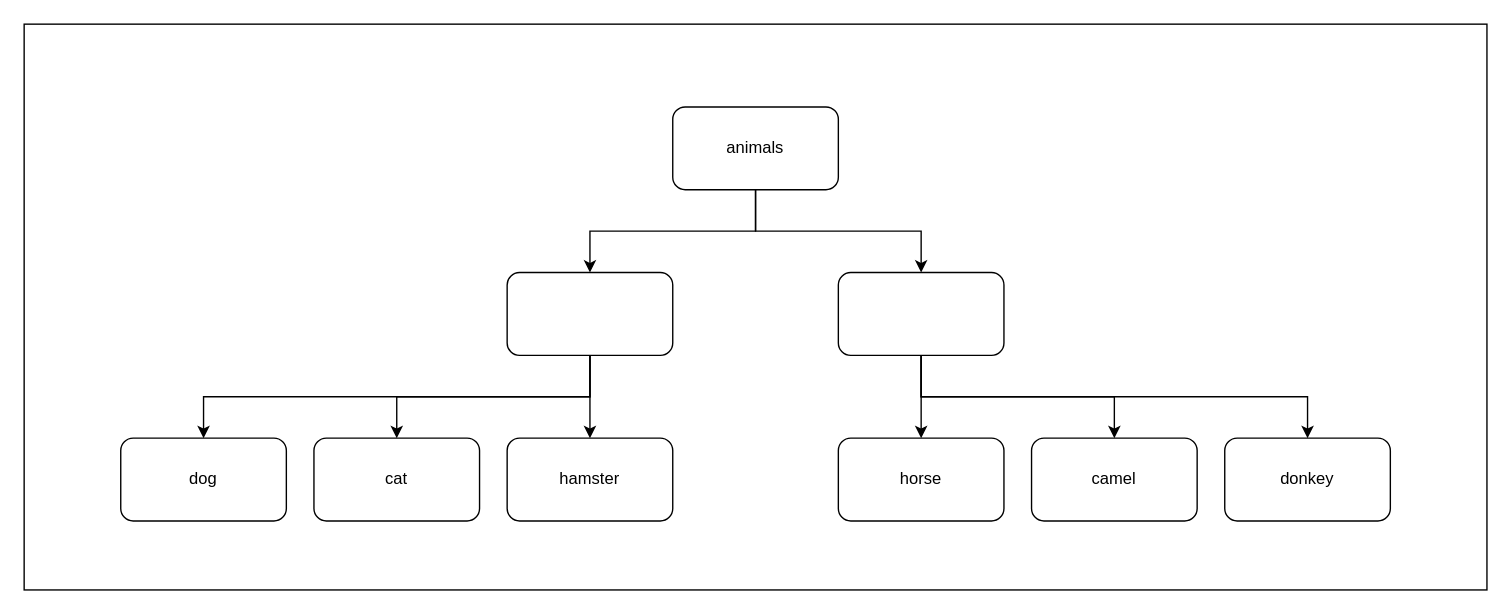
Some shapes in this 1511 by 614 pixel diagram are drawn without their labels. The shapes that lost their labels are listed below. From the top down, each one's box as (x1, y1, x2, y2) in pixels, then its label:
(506, 271, 673, 355): pets
(837, 271, 1004, 355): peck animals
